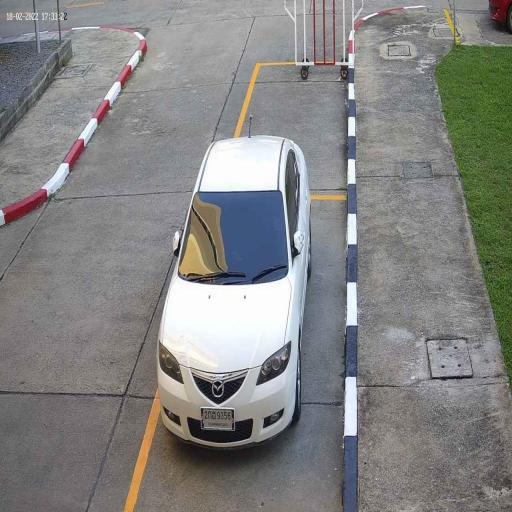car: (157, 136, 313, 451)
